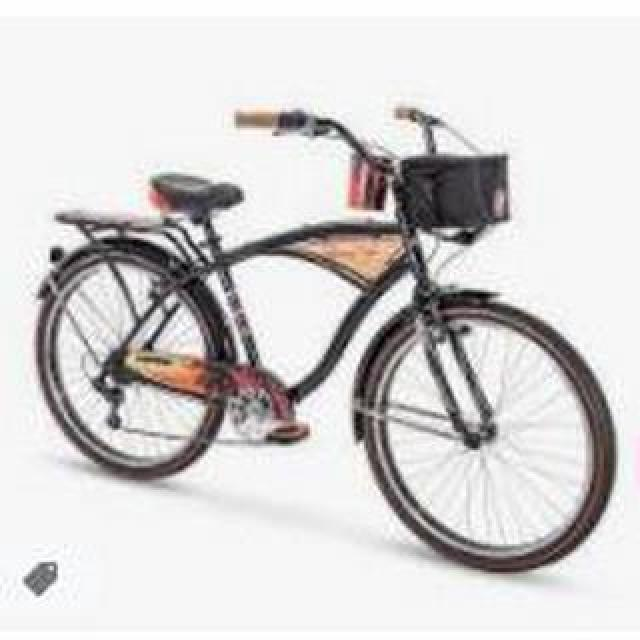Person: (27, 102, 619, 586)
